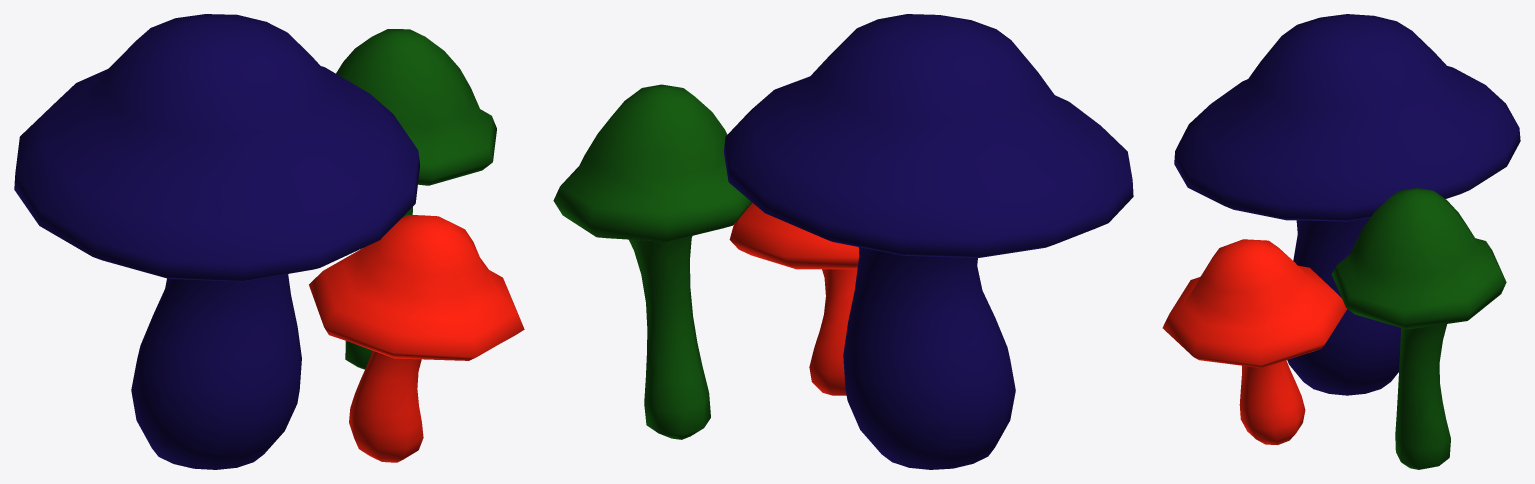
File: Demo_Sketchfab_Mushrooms.fbx
The picture shows the model from 3 angles, left to right: view 1: azimuth 30°, elevation 25°; view 2: azimuth 150°, elevation 25°; view 3: azimuth 270°, elevation 25°; orthographic projection. The views are drawn at different scales.
Parts seen in each view (by area): view 1: Demo_Sketchfab_Mushrooms; view 2: Demo_Sketchfab_Mushrooms; view 3: Demo_Sketchfab_Mushrooms.
Boxes of the visible parts, left/top/right/bottom form: Demo_Sketchfab_Mushrooms: left=14, top=14, right=524, bottom=469; Demo_Sketchfab_Mushrooms: left=553, top=14, right=1133, bottom=469; Demo_Sketchfab_Mushrooms: left=1162, top=14, right=1520, bottom=469.
Size of the model in its own units: 29.79 by 24.53 by 22.26.
